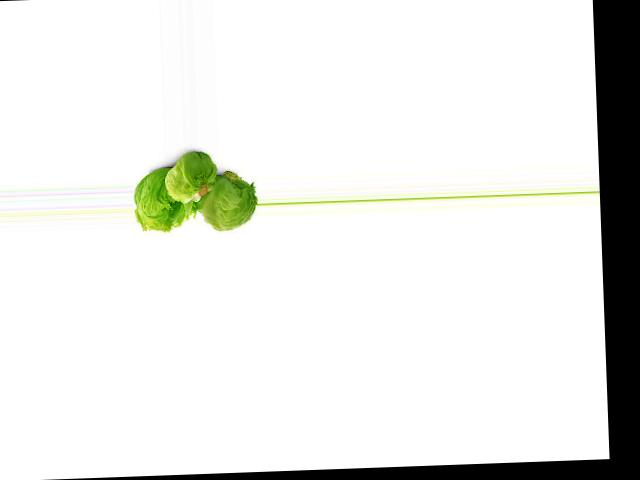lettuce: (136, 170, 190, 229)
